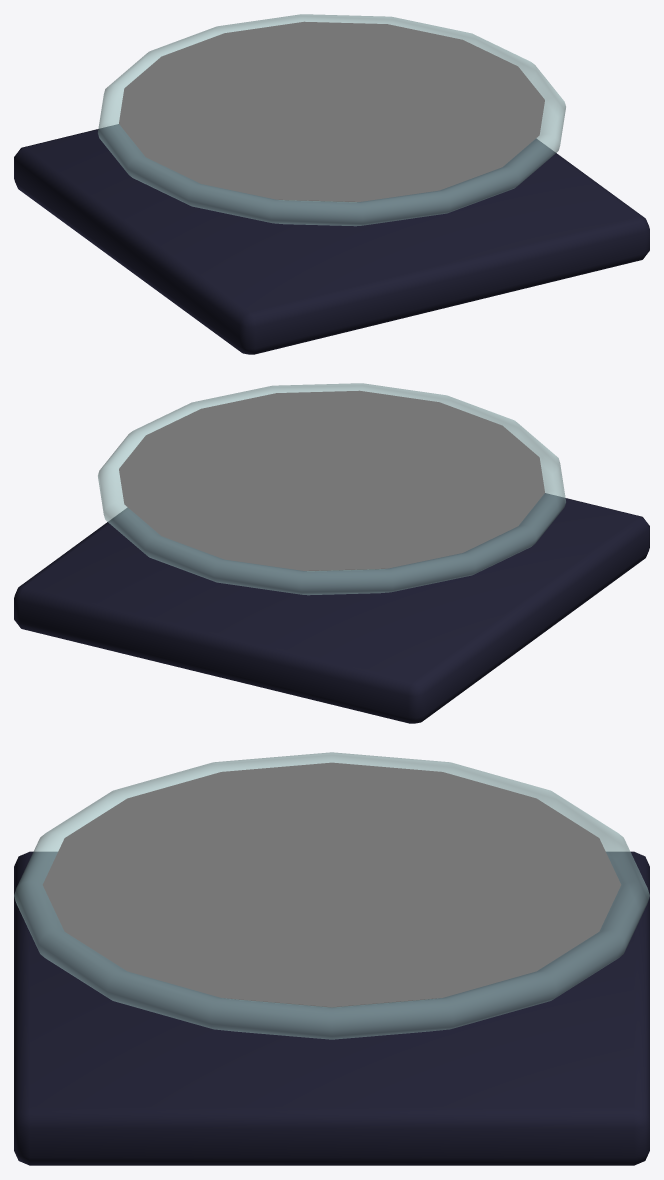
File: LastLuna_Model_Station_Dryer.fbx
3 renders of one model, top to bottom at view 1: azimuth 30°, elevation 25°; view 2: azimuth 150°, elevation 25°; view 3: azimuth 270°, elevation 25°, orthographic. The views are drawn at different scales.
Parts seen in each view (by area): view 1: Stand_Base_Small001, Watch_Glass_Content001, Watch_Glass001; view 2: Stand_Base_Small001, Watch_Glass_Content001, Watch_Glass001; view 3: Stand_Base_Small001, Watch_Glass_Content001, Watch_Glass001.
Boxes of the visible parts, <box> form: Stand_Base_Small001: <box>14,124,649,354</box>; Watch_Glass_Content001: <box>119,21,544,201</box>; Watch_Glass001: <box>98,14,565,226</box>; Stand_Base_Small001: <box>14,493,649,723</box>; Watch_Glass_Content001: <box>119,390,544,570</box>; Watch_Glass001: <box>98,383,565,595</box>; Stand_Base_Small001: <box>14,851,649,1165</box>; Watch_Glass_Content001: <box>42,762,621,1007</box>; Watch_Glass001: <box>14,752,649,1039</box>.
Bounding box in the file's own units: 100 × 27.08 × 100.
